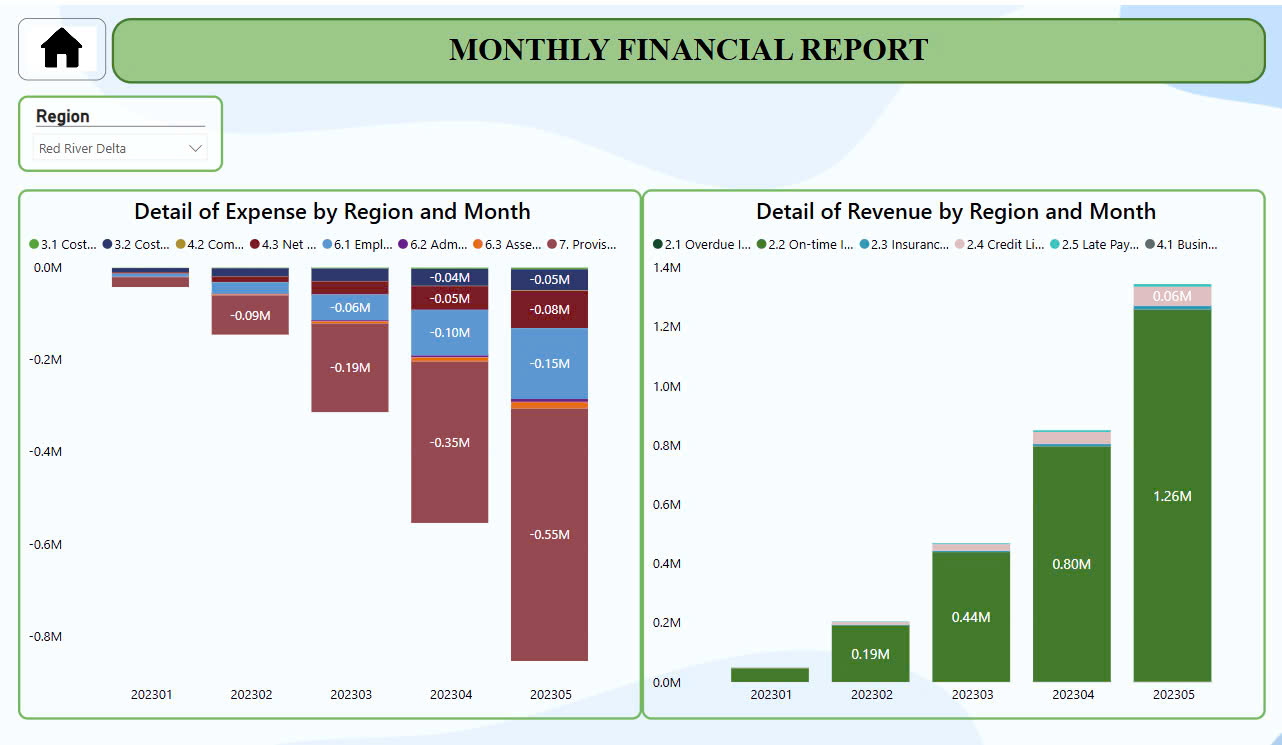

The dashboard page shown, as its layout file describes it:
{"tool":"powerbi","page":{"name":"FINANCIAL REPORT DETAIL","canvas":[1280,720],"ordinal":6},"visuals":[{"type":"textbox","box":[96.2,0,1183.8,67.5],"z":0},{"type":"lineStackedColumnComboChart","title":"Detail of Expense by Region and Month","fields":{"Category":["Table.monthkey"],"Series":["Table.English_Title"],"Y":["Sum(Table.CalculatedAmount)"]},"box":[0,176.2,640,543.8],"z":1000},{"type":"columnChart","title":"Detail of Revenue by Region and Month","fields":{"Y":["Sum(Table.CalculatedAmount)"],"Category":["Table.monthkey"],"Series":["Table.English_Title"]},"box":[640,176.2,640,543.8],"z":2000},{"type":"slicer","fields":{"Values":["Table.English_Region"]},"box":[0,80,210,78.6],"z":3000},{"type":"image","box":[0,0,90,63.8],"z":4000}]}

Visuals, with their boxes on the page's 1280x720 design canvas (x1, y1, x2, y2). These are canvas units, not pixel positions in the 1282x745 screenshot, which may show the page scaled, cropped or inside an application window:
textbox: <box>96,0,1280,68</box>
"Detail of Expense by Region and Month" lineStackedColumnComboChart: <box>0,176,640,720</box>
"Detail of Revenue by Region and Month" columnChart: <box>640,176,1280,720</box>
slicer - Table.English_Region: <box>0,80,210,159</box>
image: <box>0,0,90,64</box>
